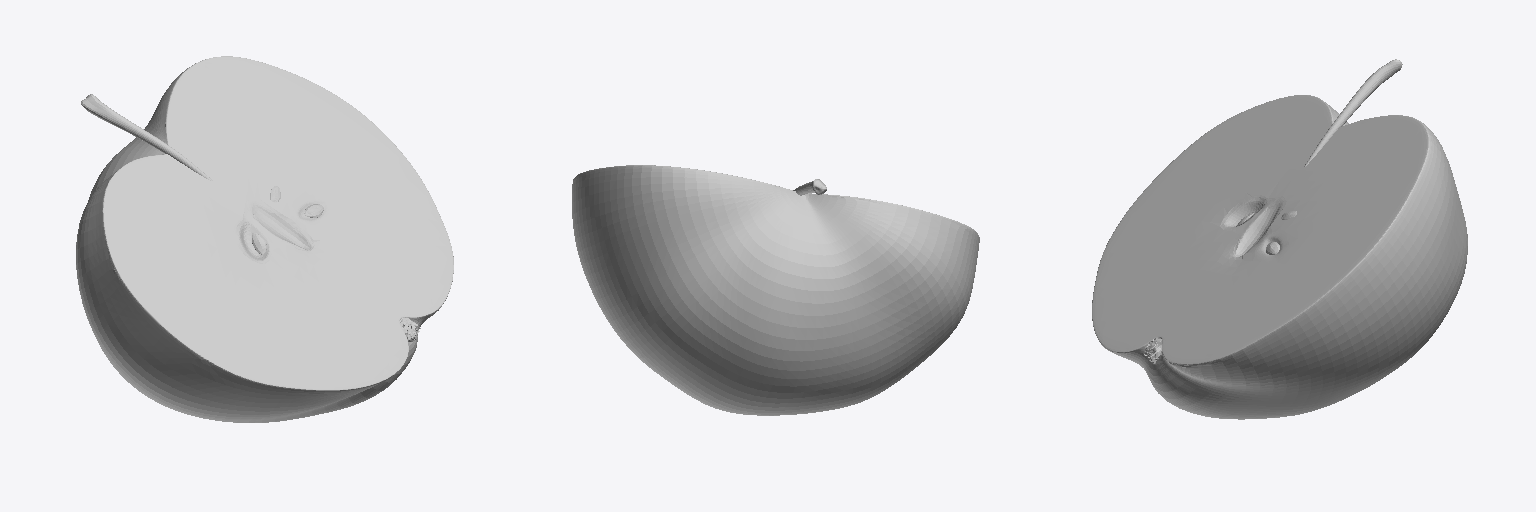
The model's file is halfapple.obj.
3 views of the same model, side by side, from view 1: azimuth 30°, elevation 25°; view 2: azimuth 150°, elevation 25°; view 3: azimuth 270°, elevation 25° (orthographic).
Visible parts, largest first — view 1: Apple_2; view 2: Apple_2; view 3: Apple_2.
Part boxes in pixels (x1,y1,x2,y2): Apple_2: (76, 56, 453, 422); Apple_2: (572, 165, 979, 415); Apple_2: (1092, 59, 1467, 419).
Size of the model in its own units: 18.26 by 14.31 by 16.87.